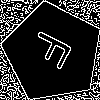F: (27, 27, 82, 76)
